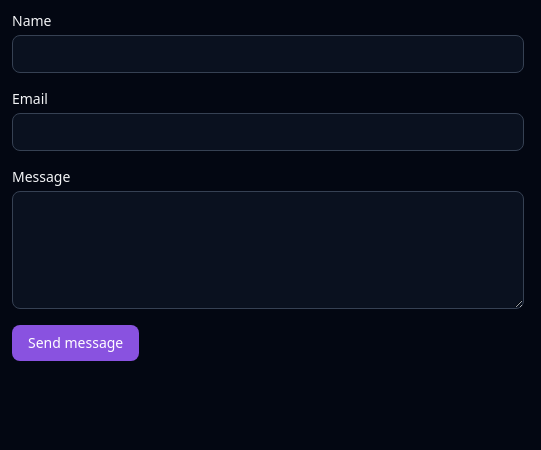
<ContactForm /> › clears the field error once the input becomes valid
Click the button "Send message": (76, 343) [12, 325, 139, 361]
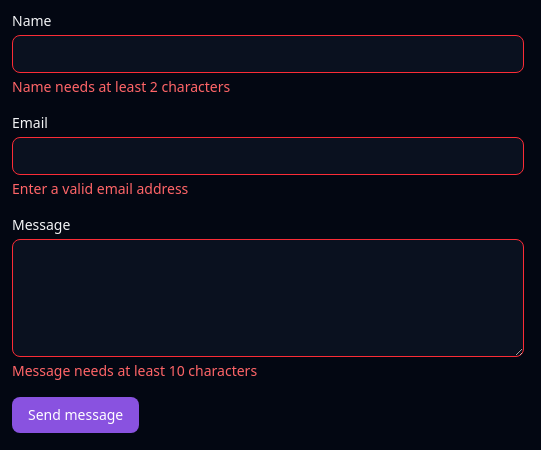
In the field labelled "Email": (268, 156) [12, 137, 524, 175], type "yens@example.com"
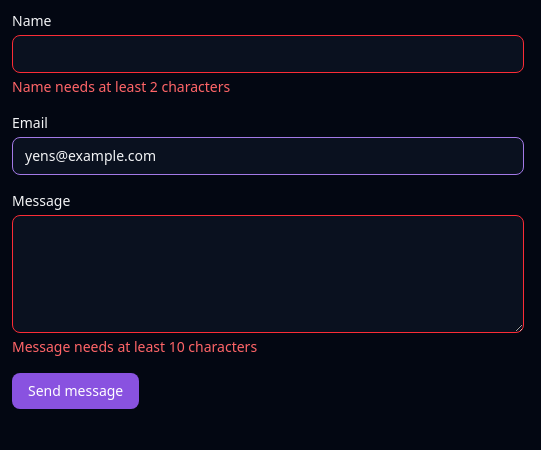
Now the text "Enter a valid email address" is gone
